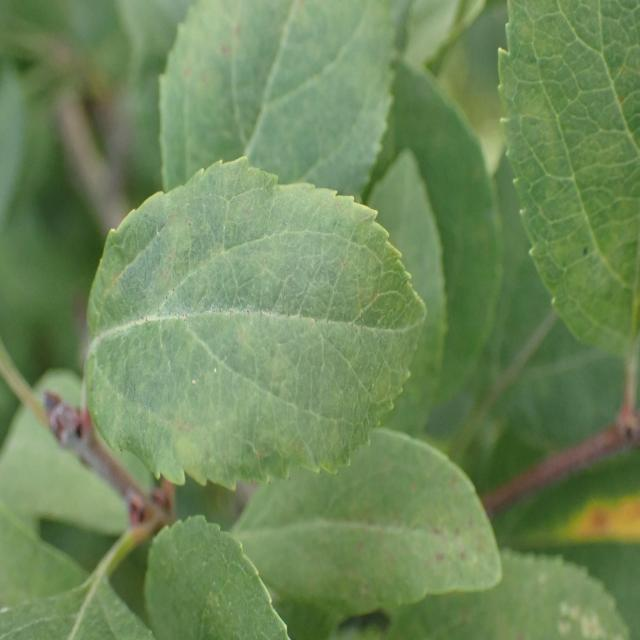scab: (110, 205, 397, 453), (256, 462, 507, 605), (174, 3, 280, 129)
